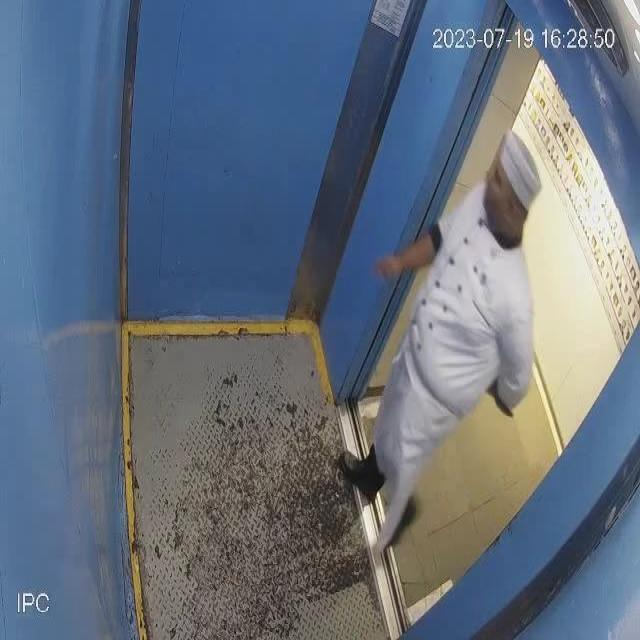person: (341, 107, 543, 556)
